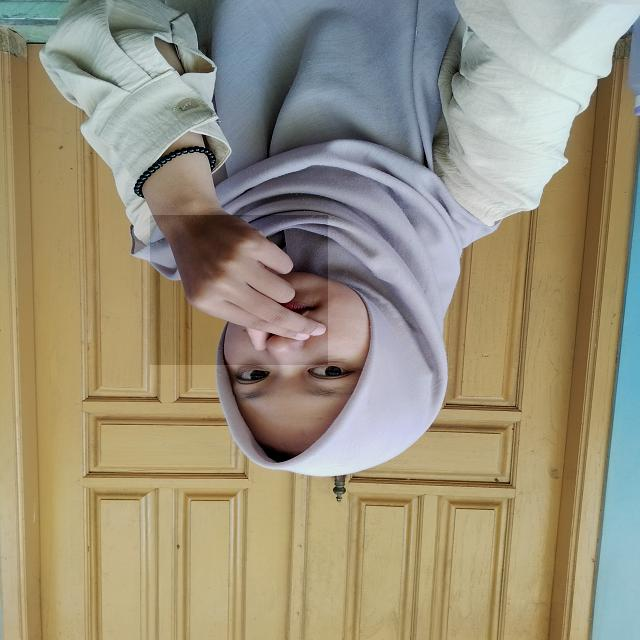bau: (150, 215, 328, 365)
